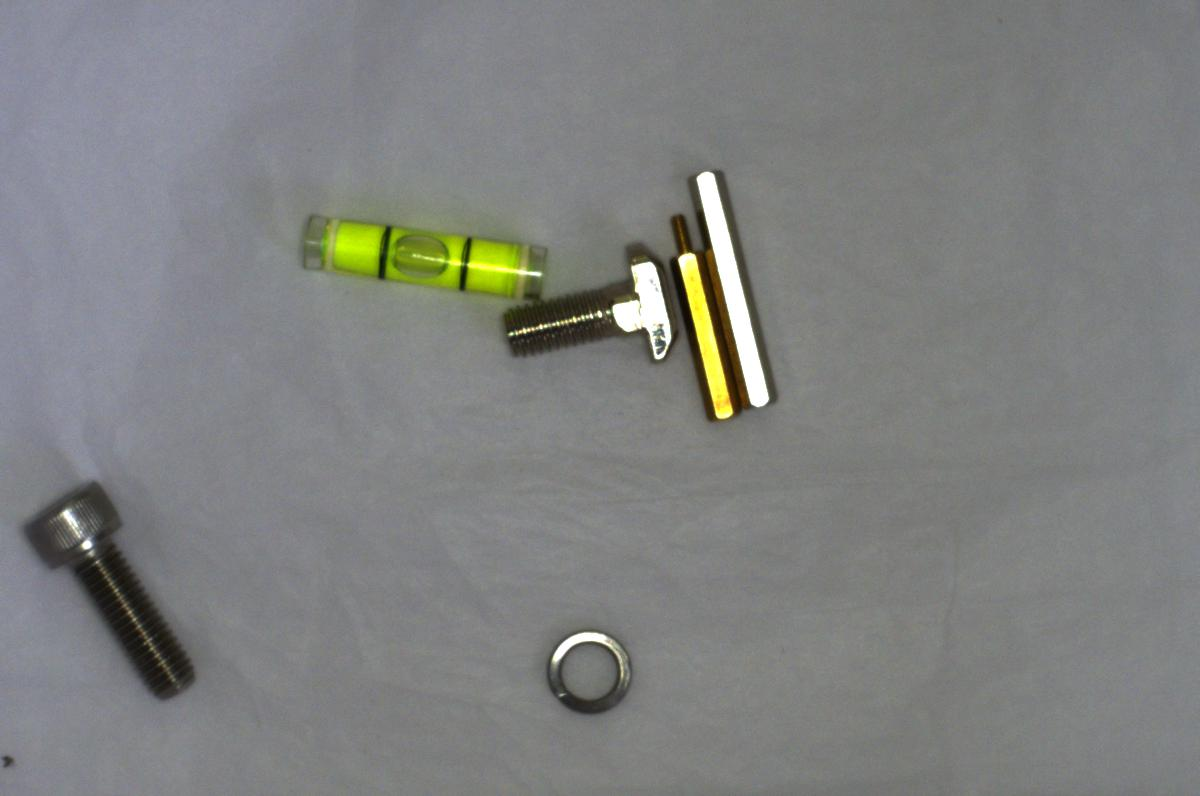Double hexagonal column: (691, 167, 785, 419)
Hexagon pillar: (666, 201, 740, 423)
Hexagon screw: (12, 476, 206, 712)
Horizontal bubble: (294, 203, 551, 302)
Spring washer: (534, 613, 641, 716)
T-shaped screw: (500, 236, 678, 367)
